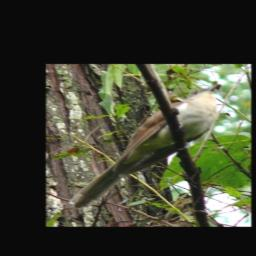Cuckoo: (69, 84, 221, 210)
